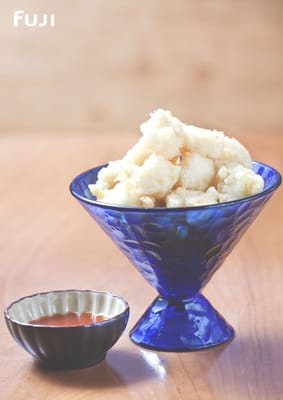sushi: (4, 289, 130, 371)
